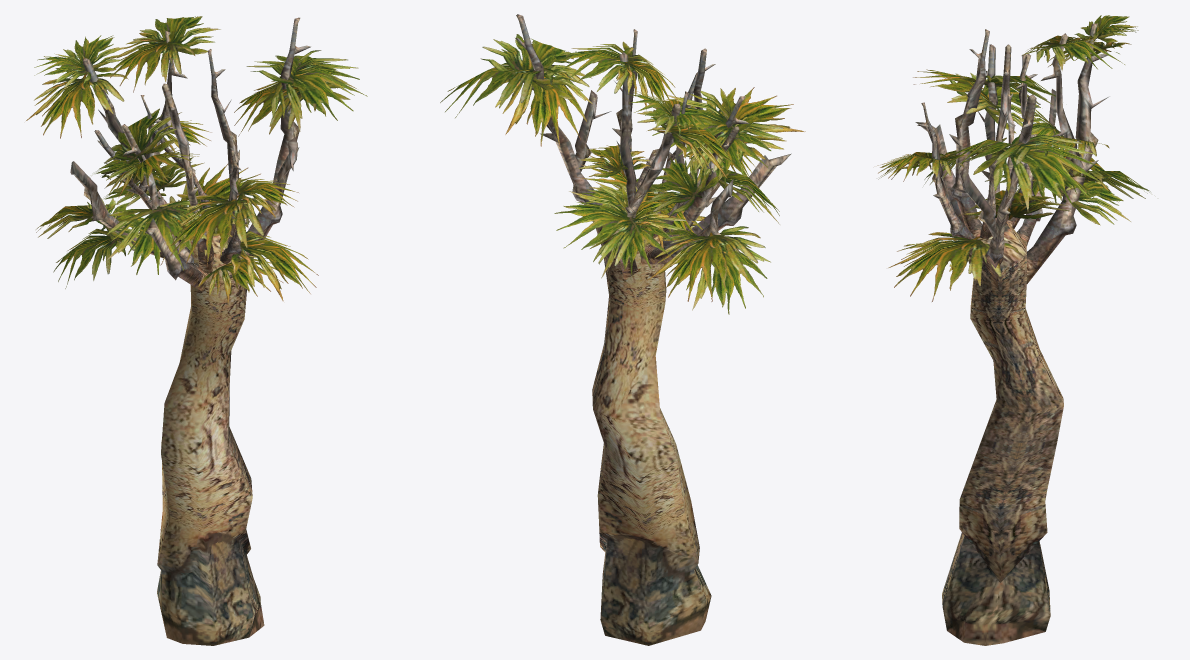
Rendered from S_Tree_Yellow035.FBX.
The picture shows the model from 3 angles, left to right: view 1: azimuth 30°, elevation 25°; view 2: azimuth 150°, elevation 25°; view 3: azimuth 270°, elevation 25°; orthographic projection. The views are drawn at different scales.
Parts seen in each view (by area): view 1: S_Tree_Yellow035; view 2: S_Tree_Yellow035; view 3: S_Tree_Yellow035.
Boxes of the visible parts, <box> form: S_Tree_Yellow035: <box>26,16,367,645</box>; S_Tree_Yellow035: <box>440,14,805,645</box>; S_Tree_Yellow035: <box>877,15,1150,645</box>.
Bounding box in the file's own units: 508 × 413 × 834.
